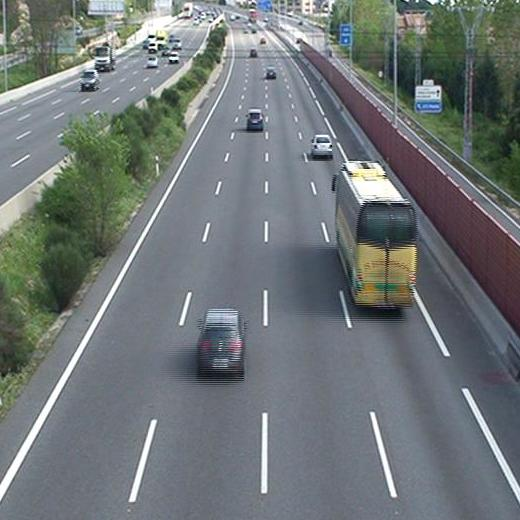bus: (331, 161, 418, 313)
car: (195, 306, 247, 378), (309, 133, 334, 157), (246, 108, 265, 129), (265, 67, 276, 79)
